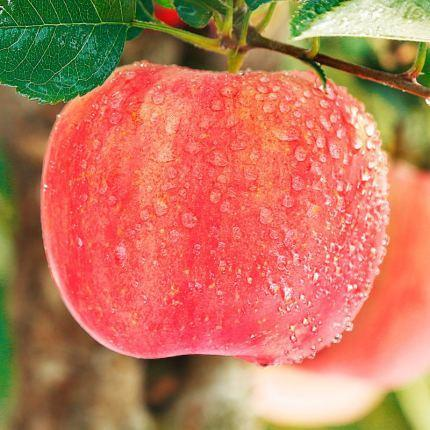apple: (40, 63, 390, 364)
